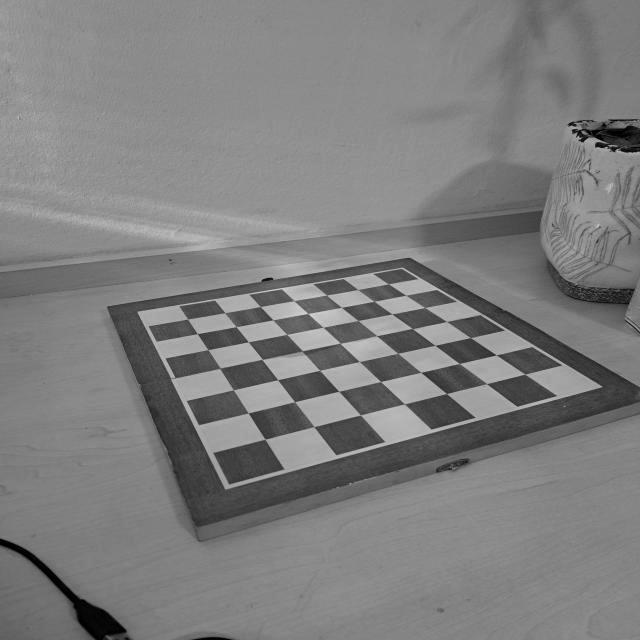chess-table-corners: (212, 472, 249, 496), (128, 306, 156, 322), (582, 377, 608, 394), (392, 263, 410, 275)
